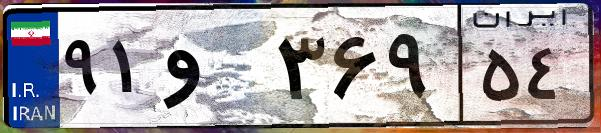1: (110, 28, 158, 98)
3: (270, 28, 330, 110)
4: (525, 38, 570, 115)
5: (475, 38, 525, 113)
6: (330, 28, 385, 110)
9: (385, 28, 445, 110), (57, 26, 110, 100)
و: (158, 20, 270, 120)
